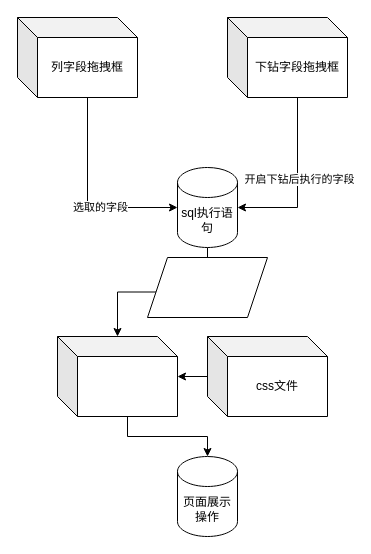
This 371x554 diagram has some shape labels left out. Here are the shapes that lost their labels. From the top down, the centre of each, then its label:
At point 207,287: "业务逻辑处理".
At point 117,376: "antd-table组件".
